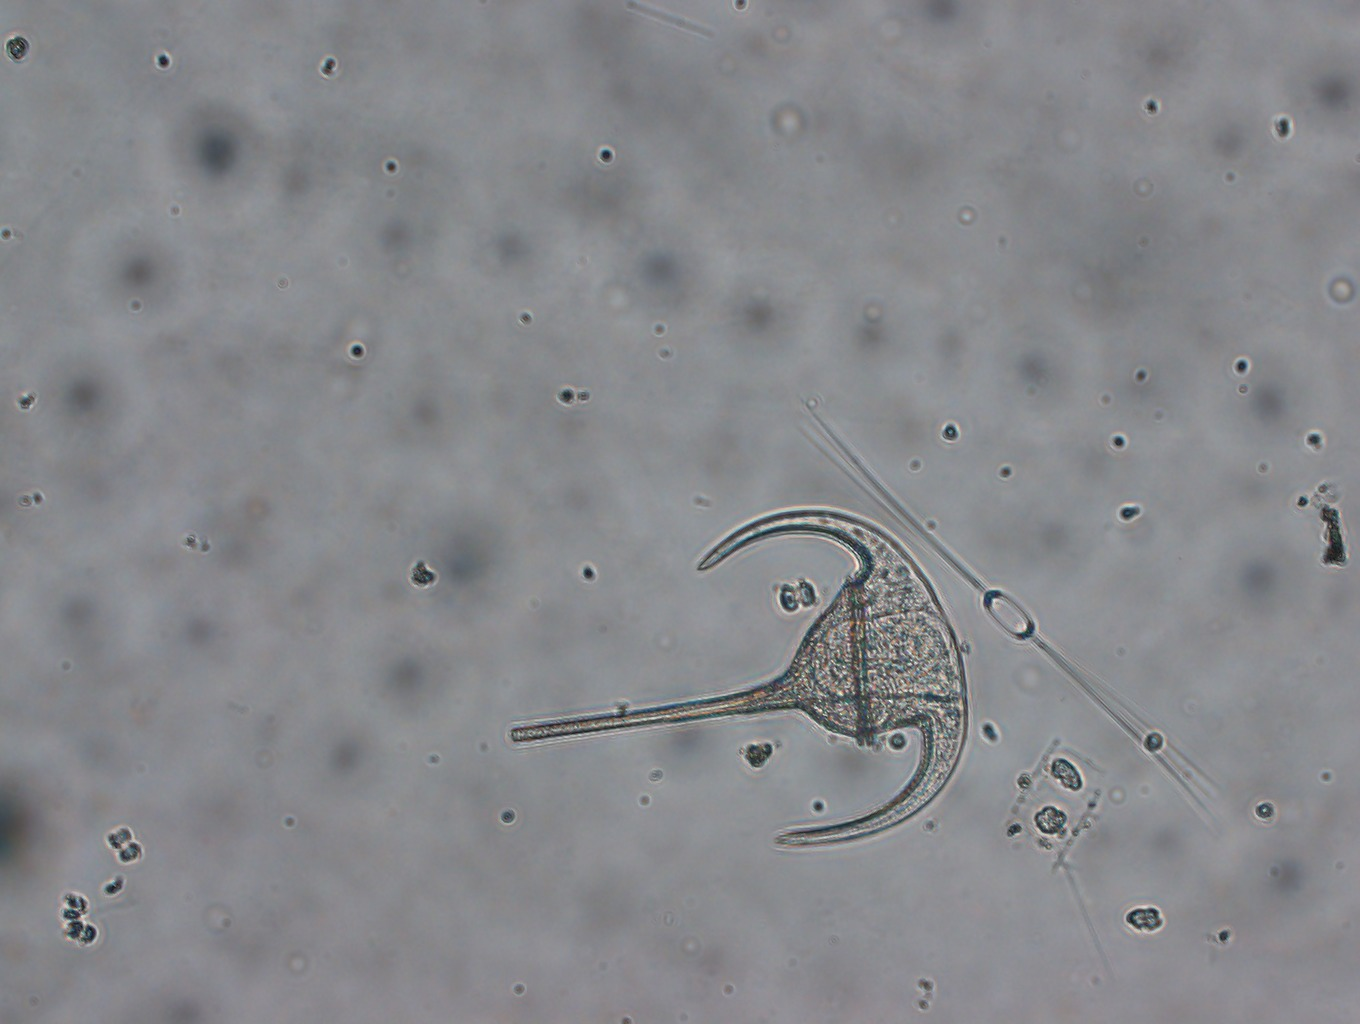ceratium tripos: (507, 506, 969, 849)
chaetoceros: (794, 394, 1233, 823), (1003, 734, 1110, 976)
